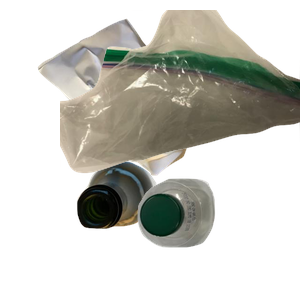glass: (74, 158, 223, 300)
paper: (35, 10, 237, 178)
plastic: (135, 176, 300, 300)
trash: (60, 10, 300, 176)
